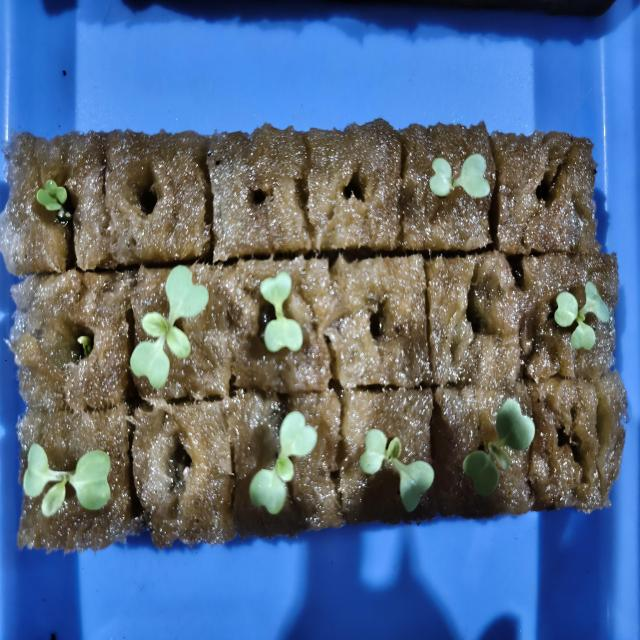daun-pakcoy: (276, 411, 317, 481), (70, 451, 110, 510), (166, 265, 209, 319), (463, 447, 504, 495), (496, 399, 534, 450), (130, 341, 170, 388), (401, 460, 434, 512), (23, 443, 54, 497), (249, 469, 286, 514), (456, 154, 491, 198), (264, 318, 303, 352), (580, 281, 610, 322), (360, 429, 387, 474), (260, 272, 292, 307), (429, 158, 454, 198), (42, 478, 67, 516), (554, 291, 578, 327), (167, 325, 191, 358), (141, 312, 168, 339), (571, 320, 595, 350), (36, 189, 62, 211), (45, 180, 67, 204), (386, 437, 402, 463)
